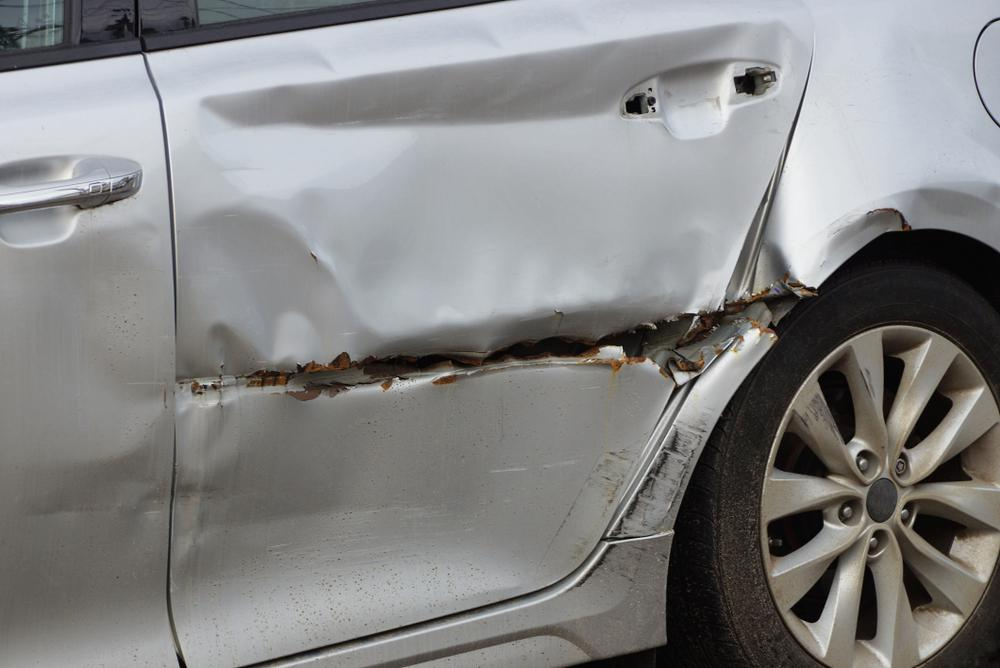crack: (242, 289, 798, 385)
dent: (172, 7, 804, 643), (0, 234, 165, 553), (754, 182, 1000, 294)
scratch: (607, 403, 718, 540)
